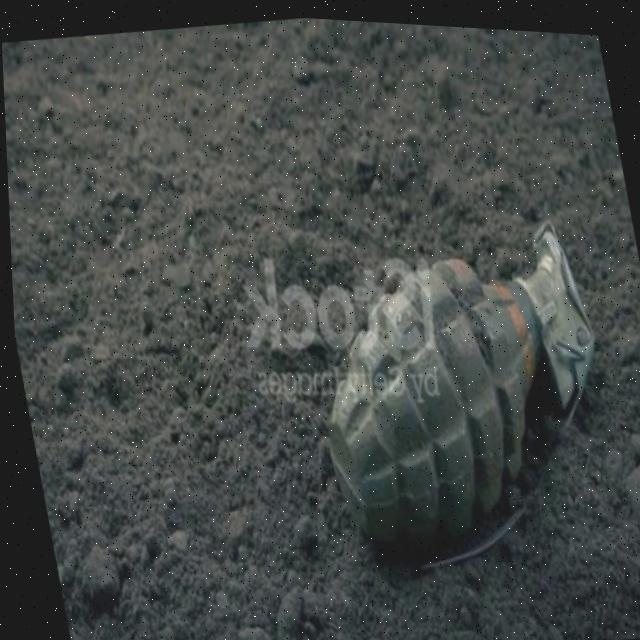grenade: (267, 171, 640, 611)
